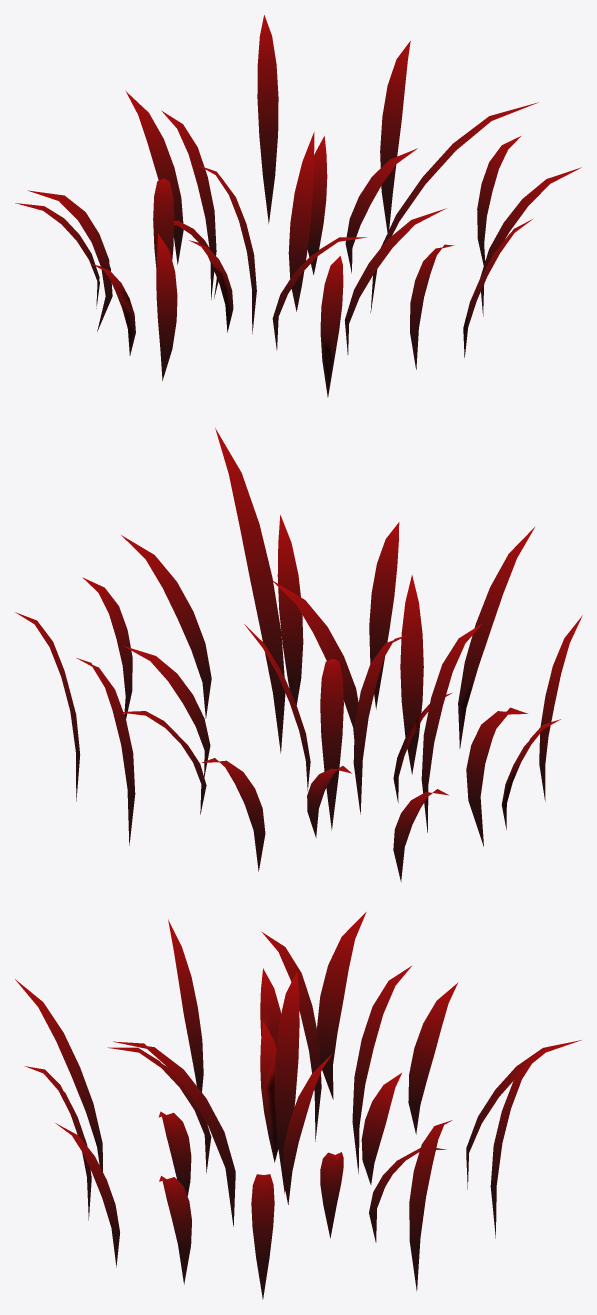
The model's file is Grasss.fbx.
3 renders of one model, top to bottom at view 1: azimuth 30°, elevation 25°; view 2: azimuth 150°, elevation 25°; view 3: azimuth 270°, elevation 25°, orthographic. The views are drawn at different scales.
Parts seen in each view (by area): view 1: Grass; view 2: Grass; view 3: Grass.
Part boxes in pixels (bbox=[...]): Grass: bbox=[15, 15, 581, 397]; Grass: bbox=[15, 428, 582, 881]; Grass: bbox=[15, 912, 581, 1299].
Size of the model in its own units: 3.48 by 1.74 by 3.38.
